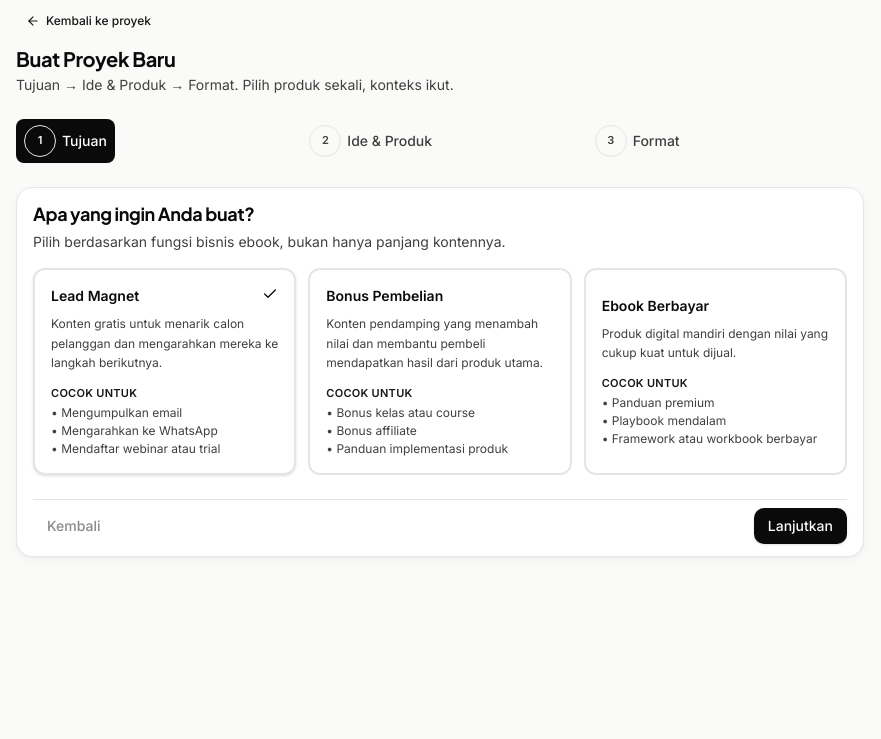
Test: NewProjectWizard › advances from type step to ide & produk
Click the button "Lanjutkan".
click(800, 526)  # box [754,508,847,544]
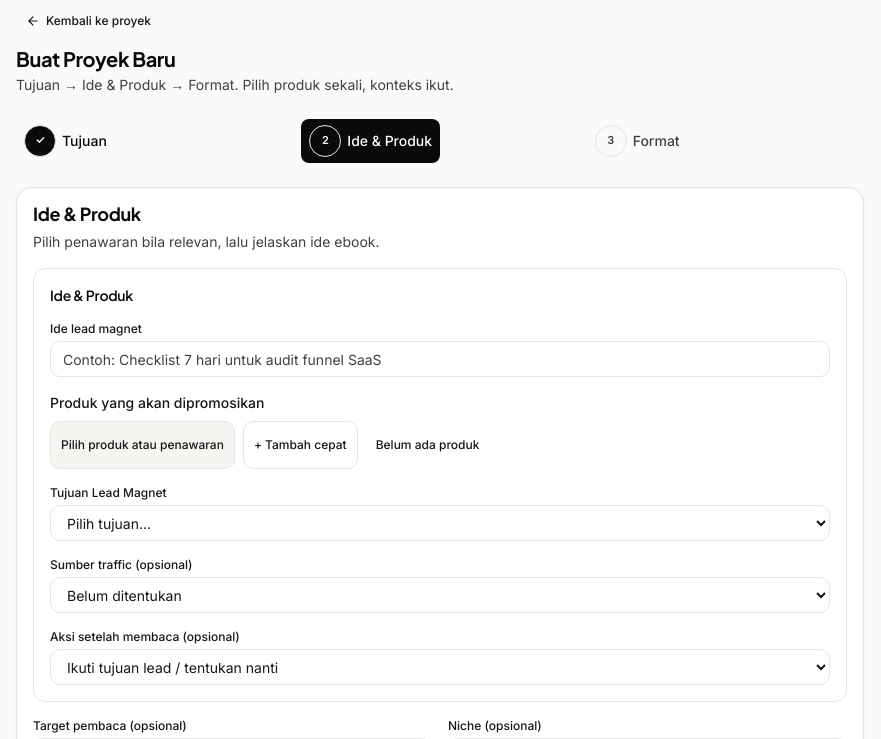
expect the text "Ide lead magnet" is shown: met, box [50,321,142,336]
expect the text "Produk yang akan dipromosikan" is shown: met, box [50,394,264,411]
